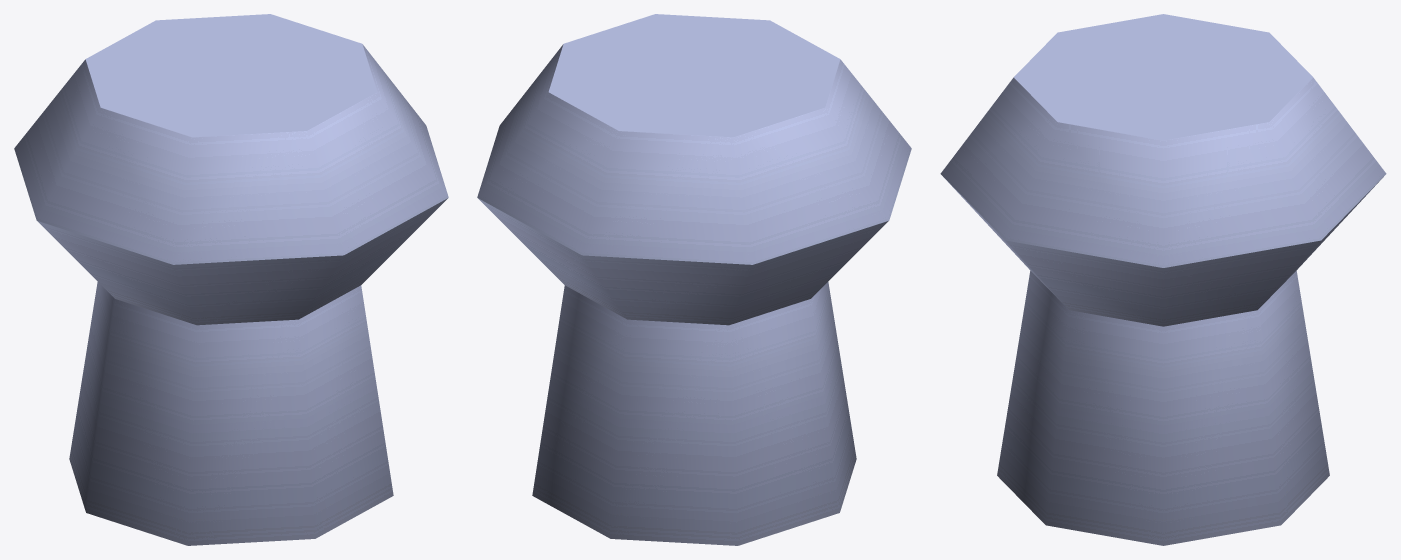
The model's file is detail-pipe.glb.
3 views of the same model, side by side, from view 1: azimuth 30°, elevation 25°; view 2: azimuth 150°, elevation 25°; view 3: azimuth 270°, elevation 25° (orthographic).
Parts seen in each view (by area): view 1: detail-pipe; view 2: detail-pipe; view 3: detail-pipe.
Boxes of the visible parts, box(x1,y1,x2,y2) form: detail-pipe: box(14, 14, 448, 545); detail-pipe: box(477, 14, 911, 545); detail-pipe: box(940, 14, 1386, 545).
Size of the model in its own units: 0.4342 by 0.4277 by 0.4342.
Materials: 1 (1 with a texture image).
